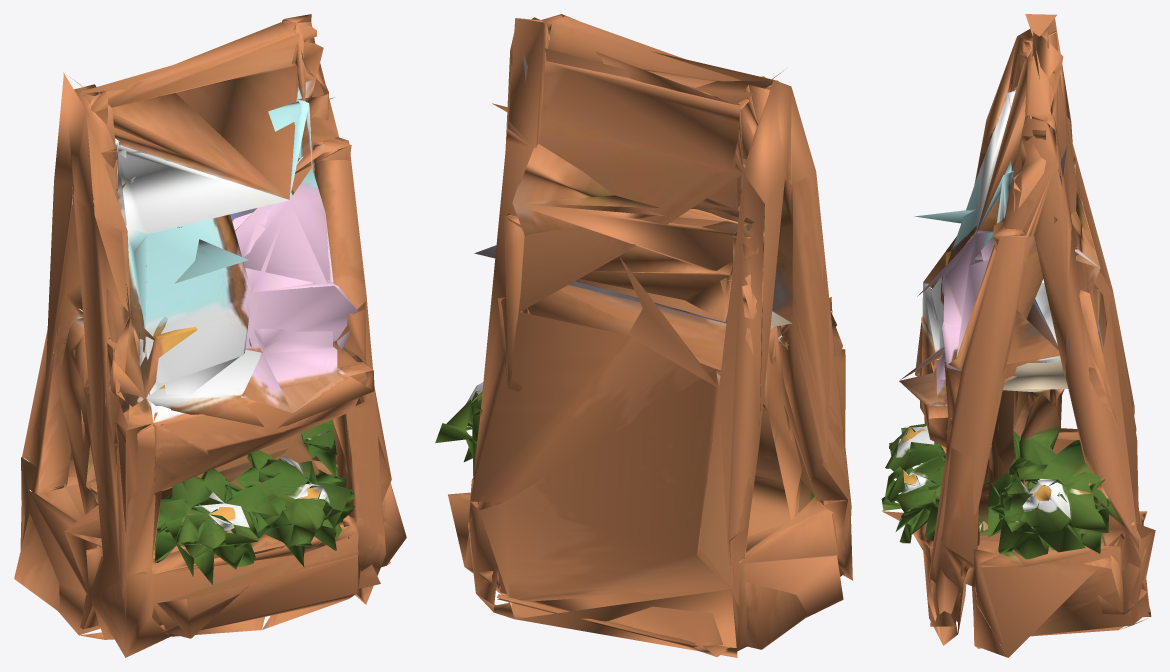
Rendered from M-10_09_flyerstand.glb.
3 renders of one model, left to right at view 1: azimuth 30°, elevation 25°; view 2: azimuth 150°, elevation 25°; view 3: azimuth 270°, elevation 25°, orthographic. The views are drawn at different scales.
Visible parts, largest first — view 1: flyerstand; view 2: flyerstand; view 3: flyerstand.
Part boxes in pixels (<box>): flyerstand: <box>14,14,406,657</box>; flyerstand: <box>435,14,852,657</box>; flyerstand: <box>881,14,1155,657</box>.
Bounding box in the file's own units: 1.6 × 2.36 × 1.13.
1 material, 1 textured.
